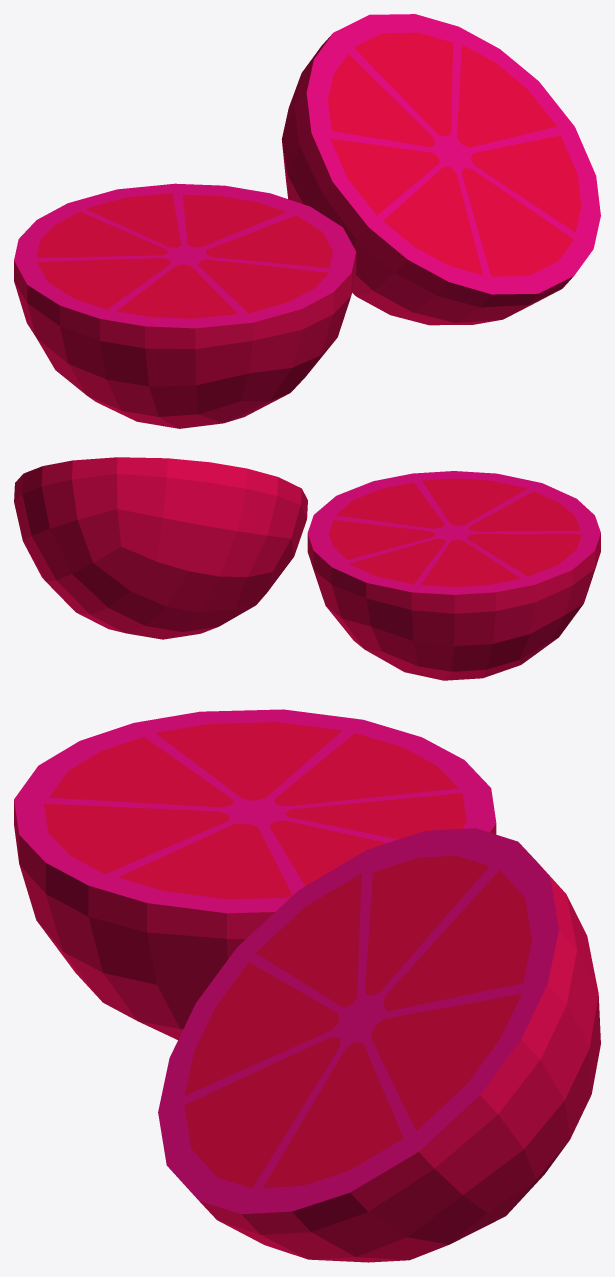
File: Grapefruit_01.fbx
3 renders of one model, top to bottom at view 1: azimuth 30°, elevation 25°; view 2: azimuth 150°, elevation 25°; view 3: azimuth 270°, elevation 25°, orthographic. The views are drawn at different scales.
Parts seen in each view (by area): view 1: Grapefruit_01; view 2: Grapefruit_01; view 3: Grapefruit_01.
Boxes of the visible parts, box(x1,y1,x2,y2) form: Grapefruit_01: box(14, 14, 600, 428); Grapefruit_01: box(14, 457, 600, 680); Grapefruit_01: box(14, 709, 600, 1262).
Size of the model in its own units: 11.66 by 4.69 by 7.04.
